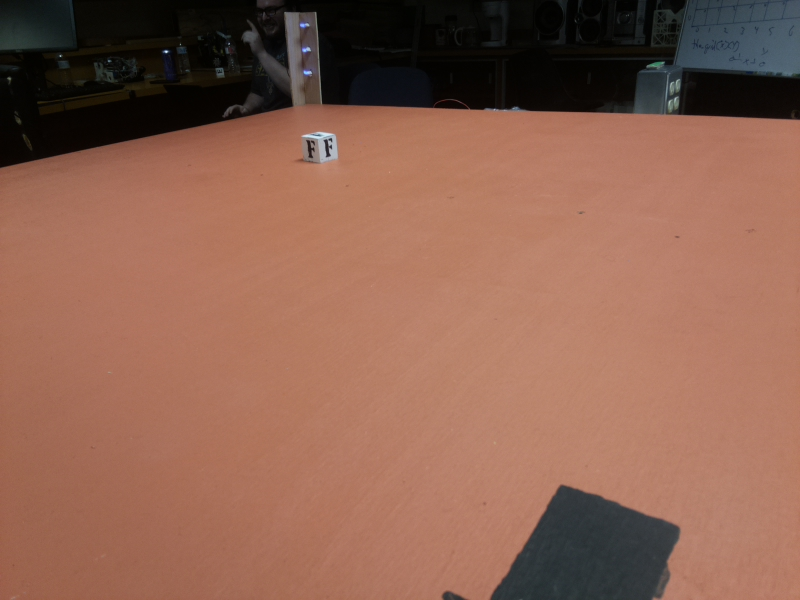blockF: (301, 129, 335, 171)
corner: (283, 11, 321, 114)
start: (435, 478, 681, 598)
